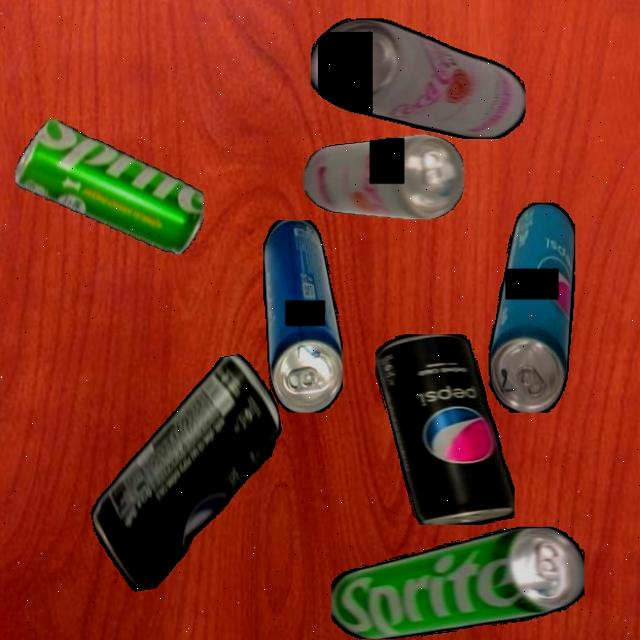debris: (69, 350, 305, 596), (330, 527, 584, 639), (376, 333, 514, 525), (311, 17, 526, 139), (14, 118, 204, 254), (488, 202, 575, 412), (262, 219, 343, 413), (303, 135, 464, 219)
